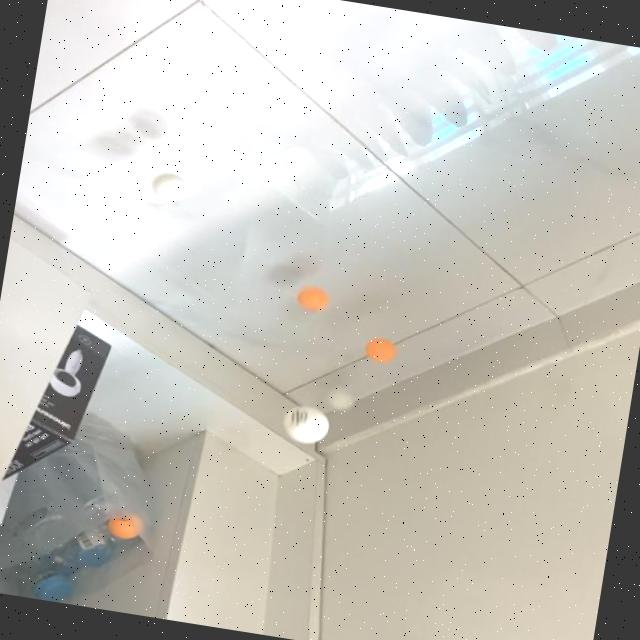ping-pong-ball: (280, 406, 330, 446), (148, 170, 190, 202), (106, 509, 144, 540), (294, 283, 332, 312), (362, 334, 398, 364), (322, 383, 357, 411)
